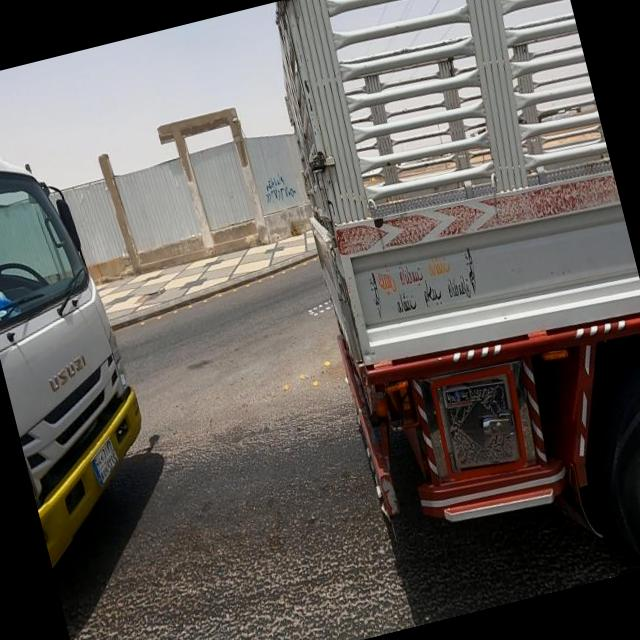debris: (216, 115, 346, 252)
